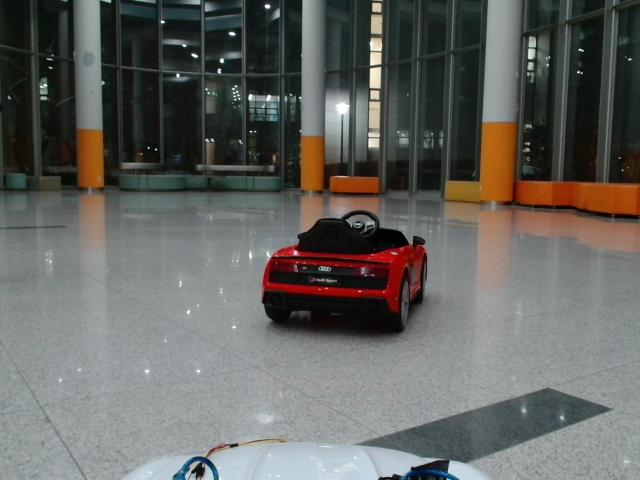car: (262, 210, 428, 328)
